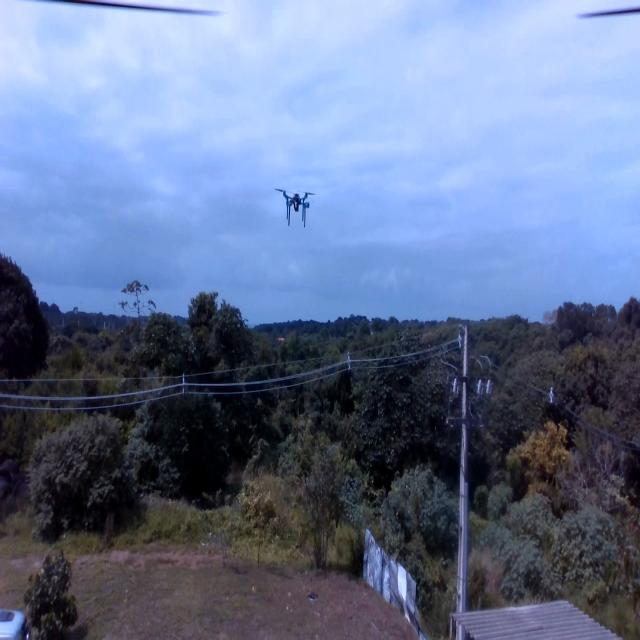-uav-: (266, 182, 326, 239)
